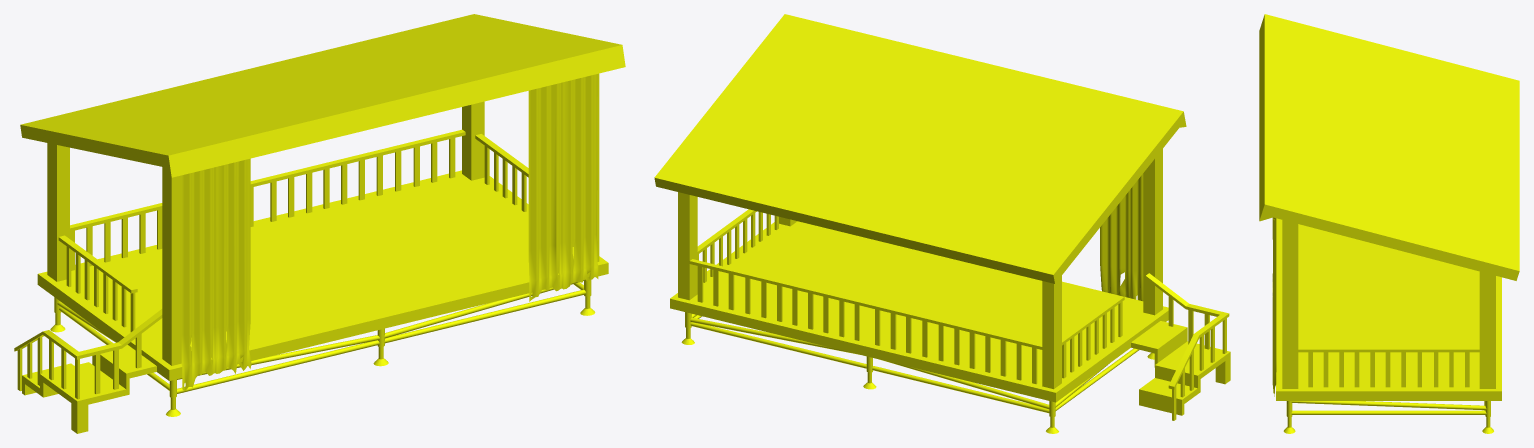
The model's file is SM_Stage.fbx.
3 renders of one model, left to right at view 1: azimuth 30°, elevation 25°; view 2: azimuth 150°, elevation 25°; view 3: azimuth 270°, elevation 25°, orthographic. The views are drawn at different scales.
Visible parts, largest first — view 1: Box001 (×7); view 2: Box001 (×7); view 3: Box001 (×6).
Part boxes in pixels (x1,y1,x2,y2): Box001 (×7): [14, 14, 625, 433]; Box001 (×7): [654, 14, 1230, 433]; Box001 (×6): [1259, 14, 1519, 433].
Bounding box in the file's own units: 600 × 301 × 299.
